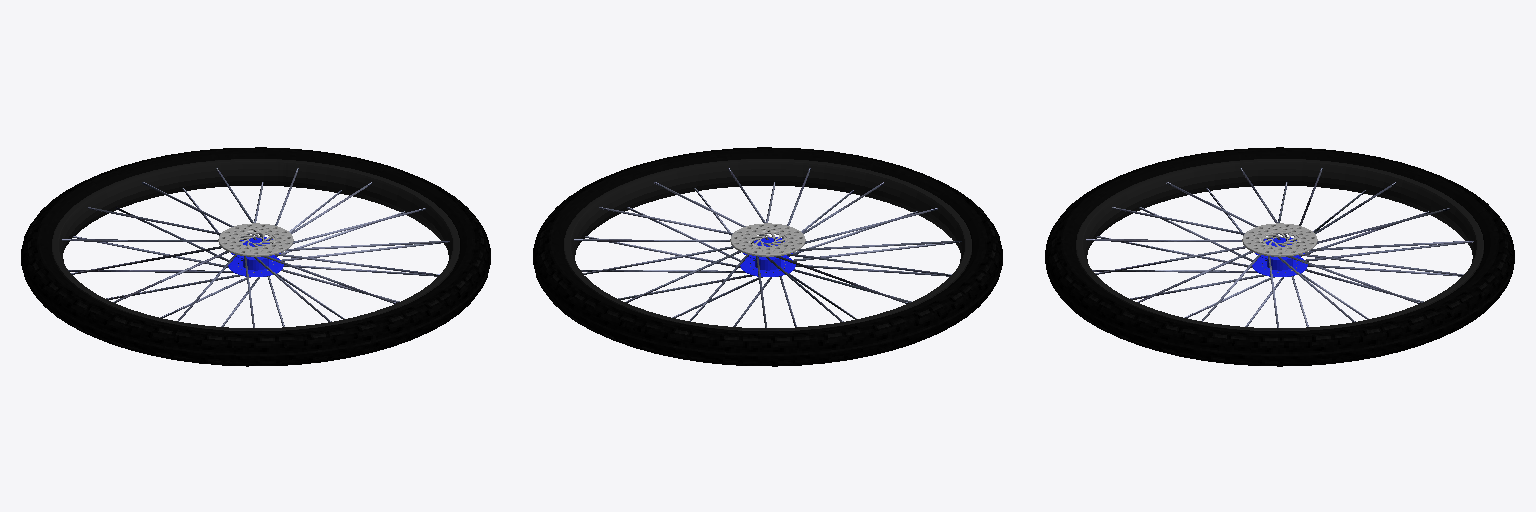
3 renders of one model, left to right at view 1: azimuth 30°, elevation 25°; view 2: azimuth 150°, elevation 25°; view 3: azimuth 270°, elevation 25°, orthographic.
Parts seen in each view (by area): view 1: Wheel_back; view 2: Wheel_back; view 3: Wheel_back.
Part boxes in pixels (x1,y1,x2,y2): Wheel_back: (21, 147, 490, 366); Wheel_back: (533, 147, 1002, 366); Wheel_back: (1045, 147, 1514, 366).
Bounding box in the file's own units: 2.13 × 0.1694 × 2.13.
1 materials, 1 textured.